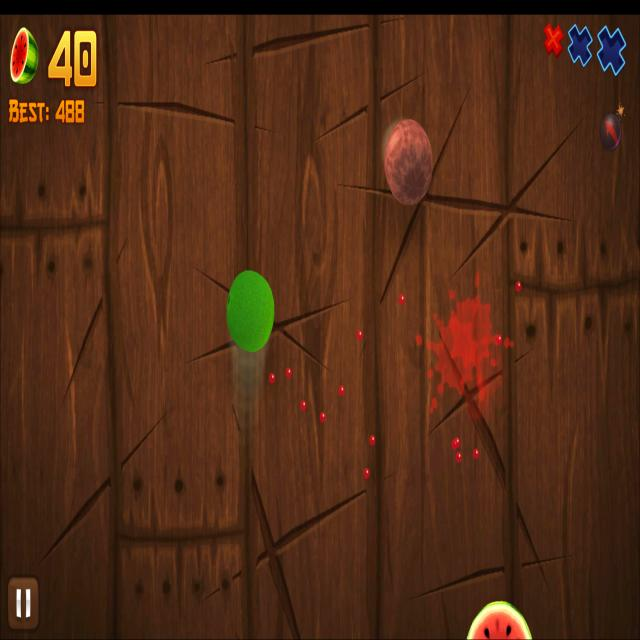fruit: (383, 120, 434, 208), (227, 268, 274, 352)
